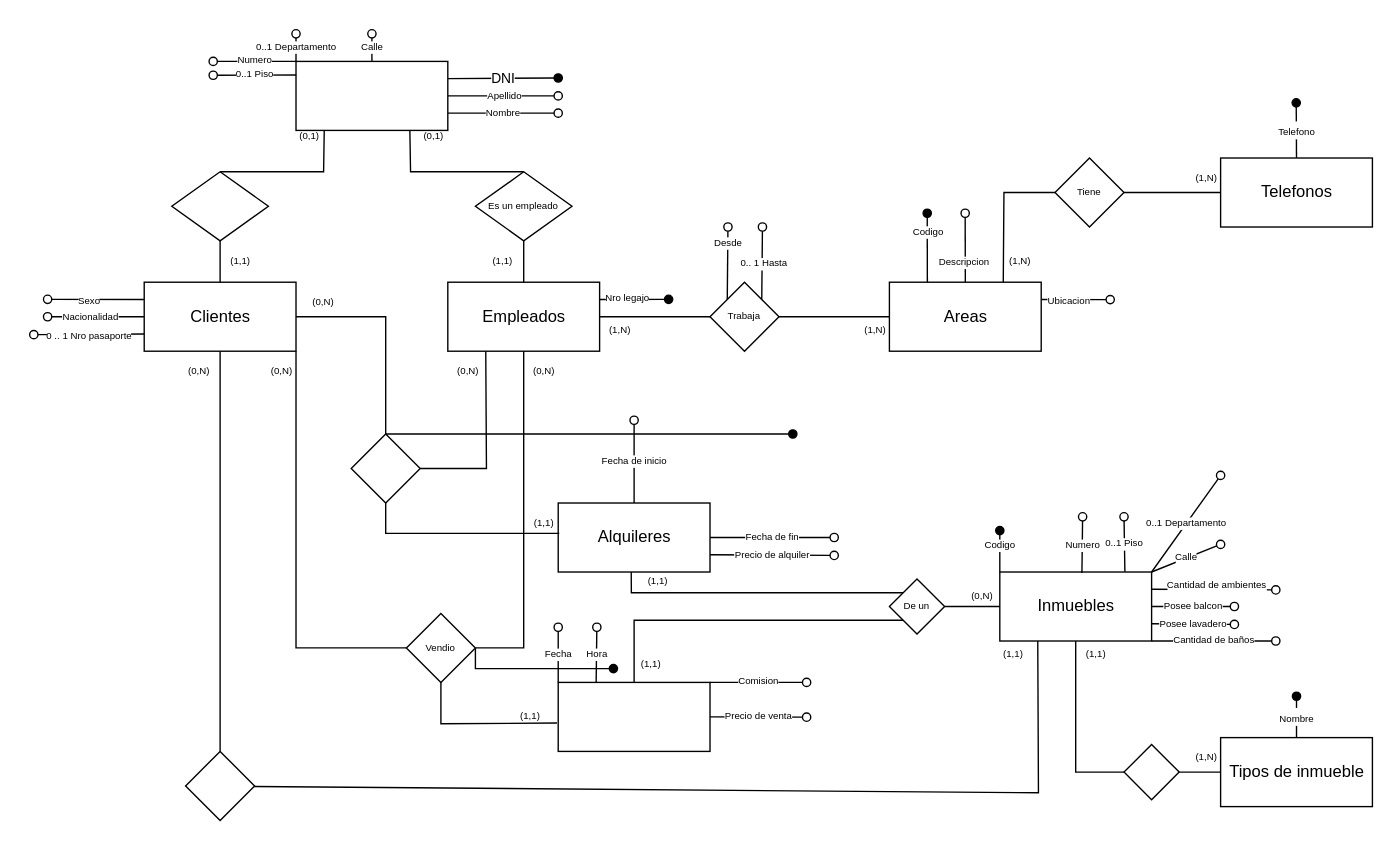
The diagram is 1397 pixels wide and 845 high, and some of its shapes have lost their labels. Here are the shapes that lost their labels. From the top down, the centre of each, then its label:
pixel 371 95: Personas
pixel 219 205: Es un alumno
pixel 385 468: Alquilo
pixel 633 716: Ventas
pixel 219 785: Es dueño
pixel 1151 771: De
